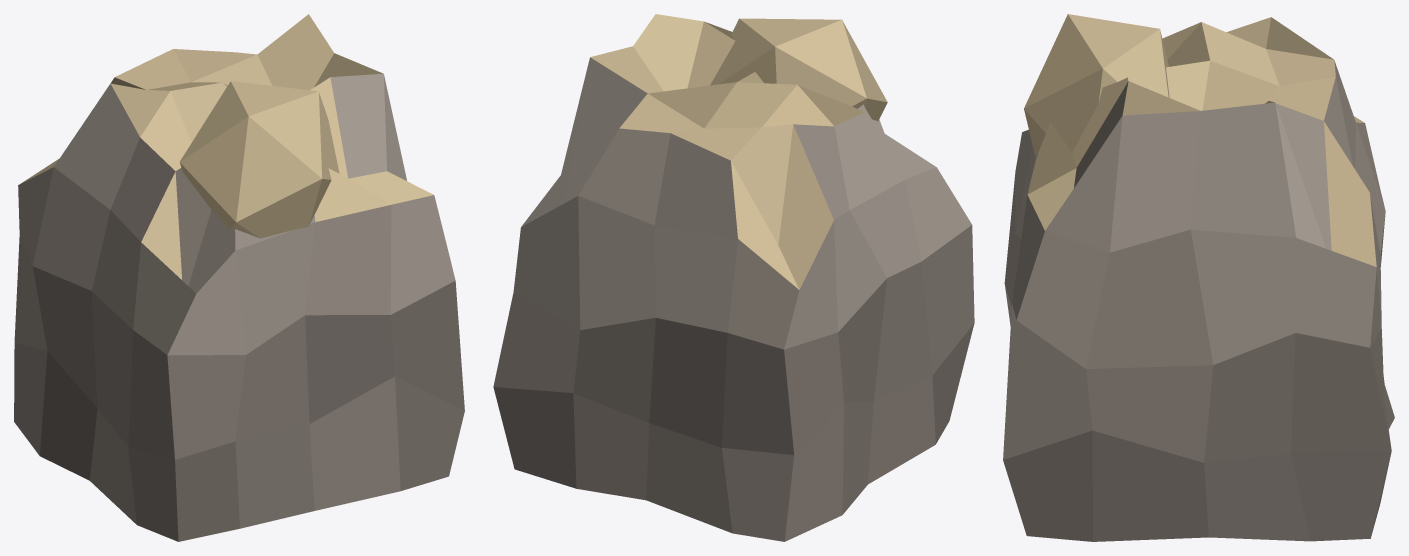
Rendered from rock_3.glb.
The picture shows the model from 3 angles, left to right: view 1: azimuth 30°, elevation 25°; view 2: azimuth 150°, elevation 25°; view 3: azimuth 270°, elevation 25°; orthographic projection. The views are drawn at different scales.
Visible parts, largest first — view 1: rock_3; view 2: rock_3; view 3: rock_3.
Part boxes in pixels (bbox=[...]): rock_3: bbox=[14, 14, 464, 541]; rock_3: bbox=[493, 14, 974, 541]; rock_3: bbox=[1003, 14, 1394, 541].
Bounding box in the file's own units: 0.9814 × 1.19 × 0.9946.
